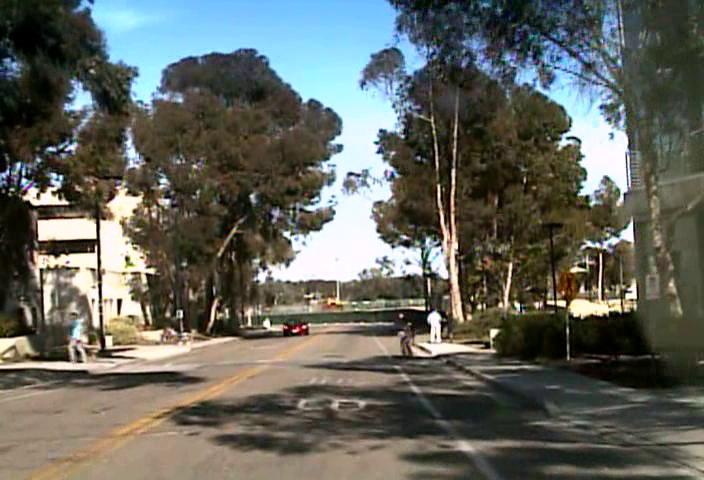pedestrianCrossing: (555, 269, 581, 302)
